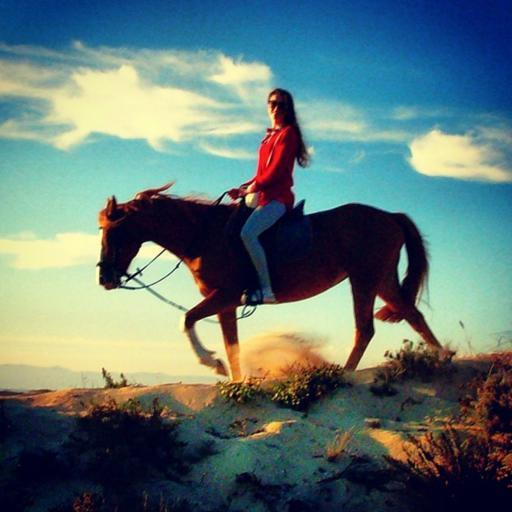horse: (94, 168, 437, 386)
